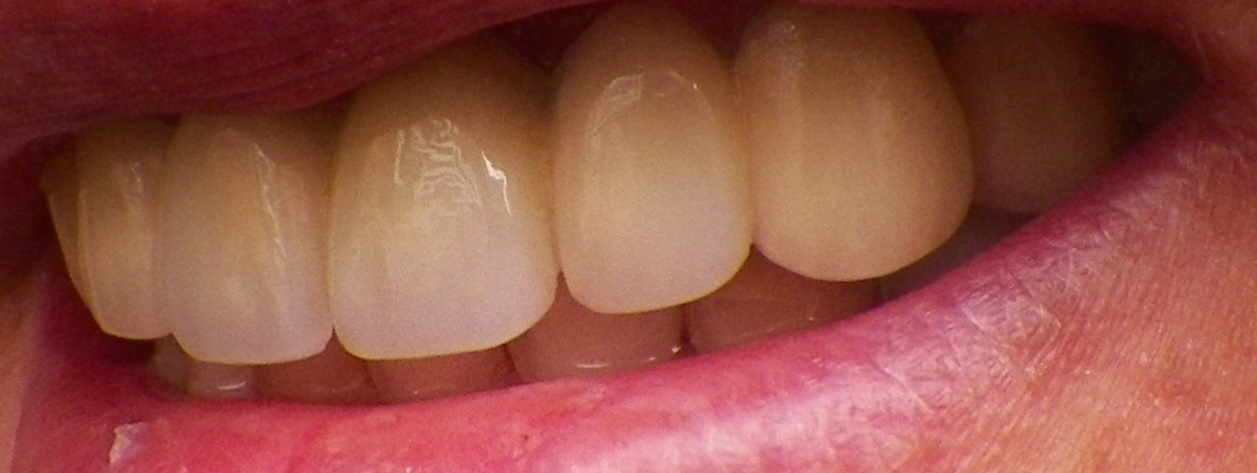boca: (36, 25, 1126, 408)
